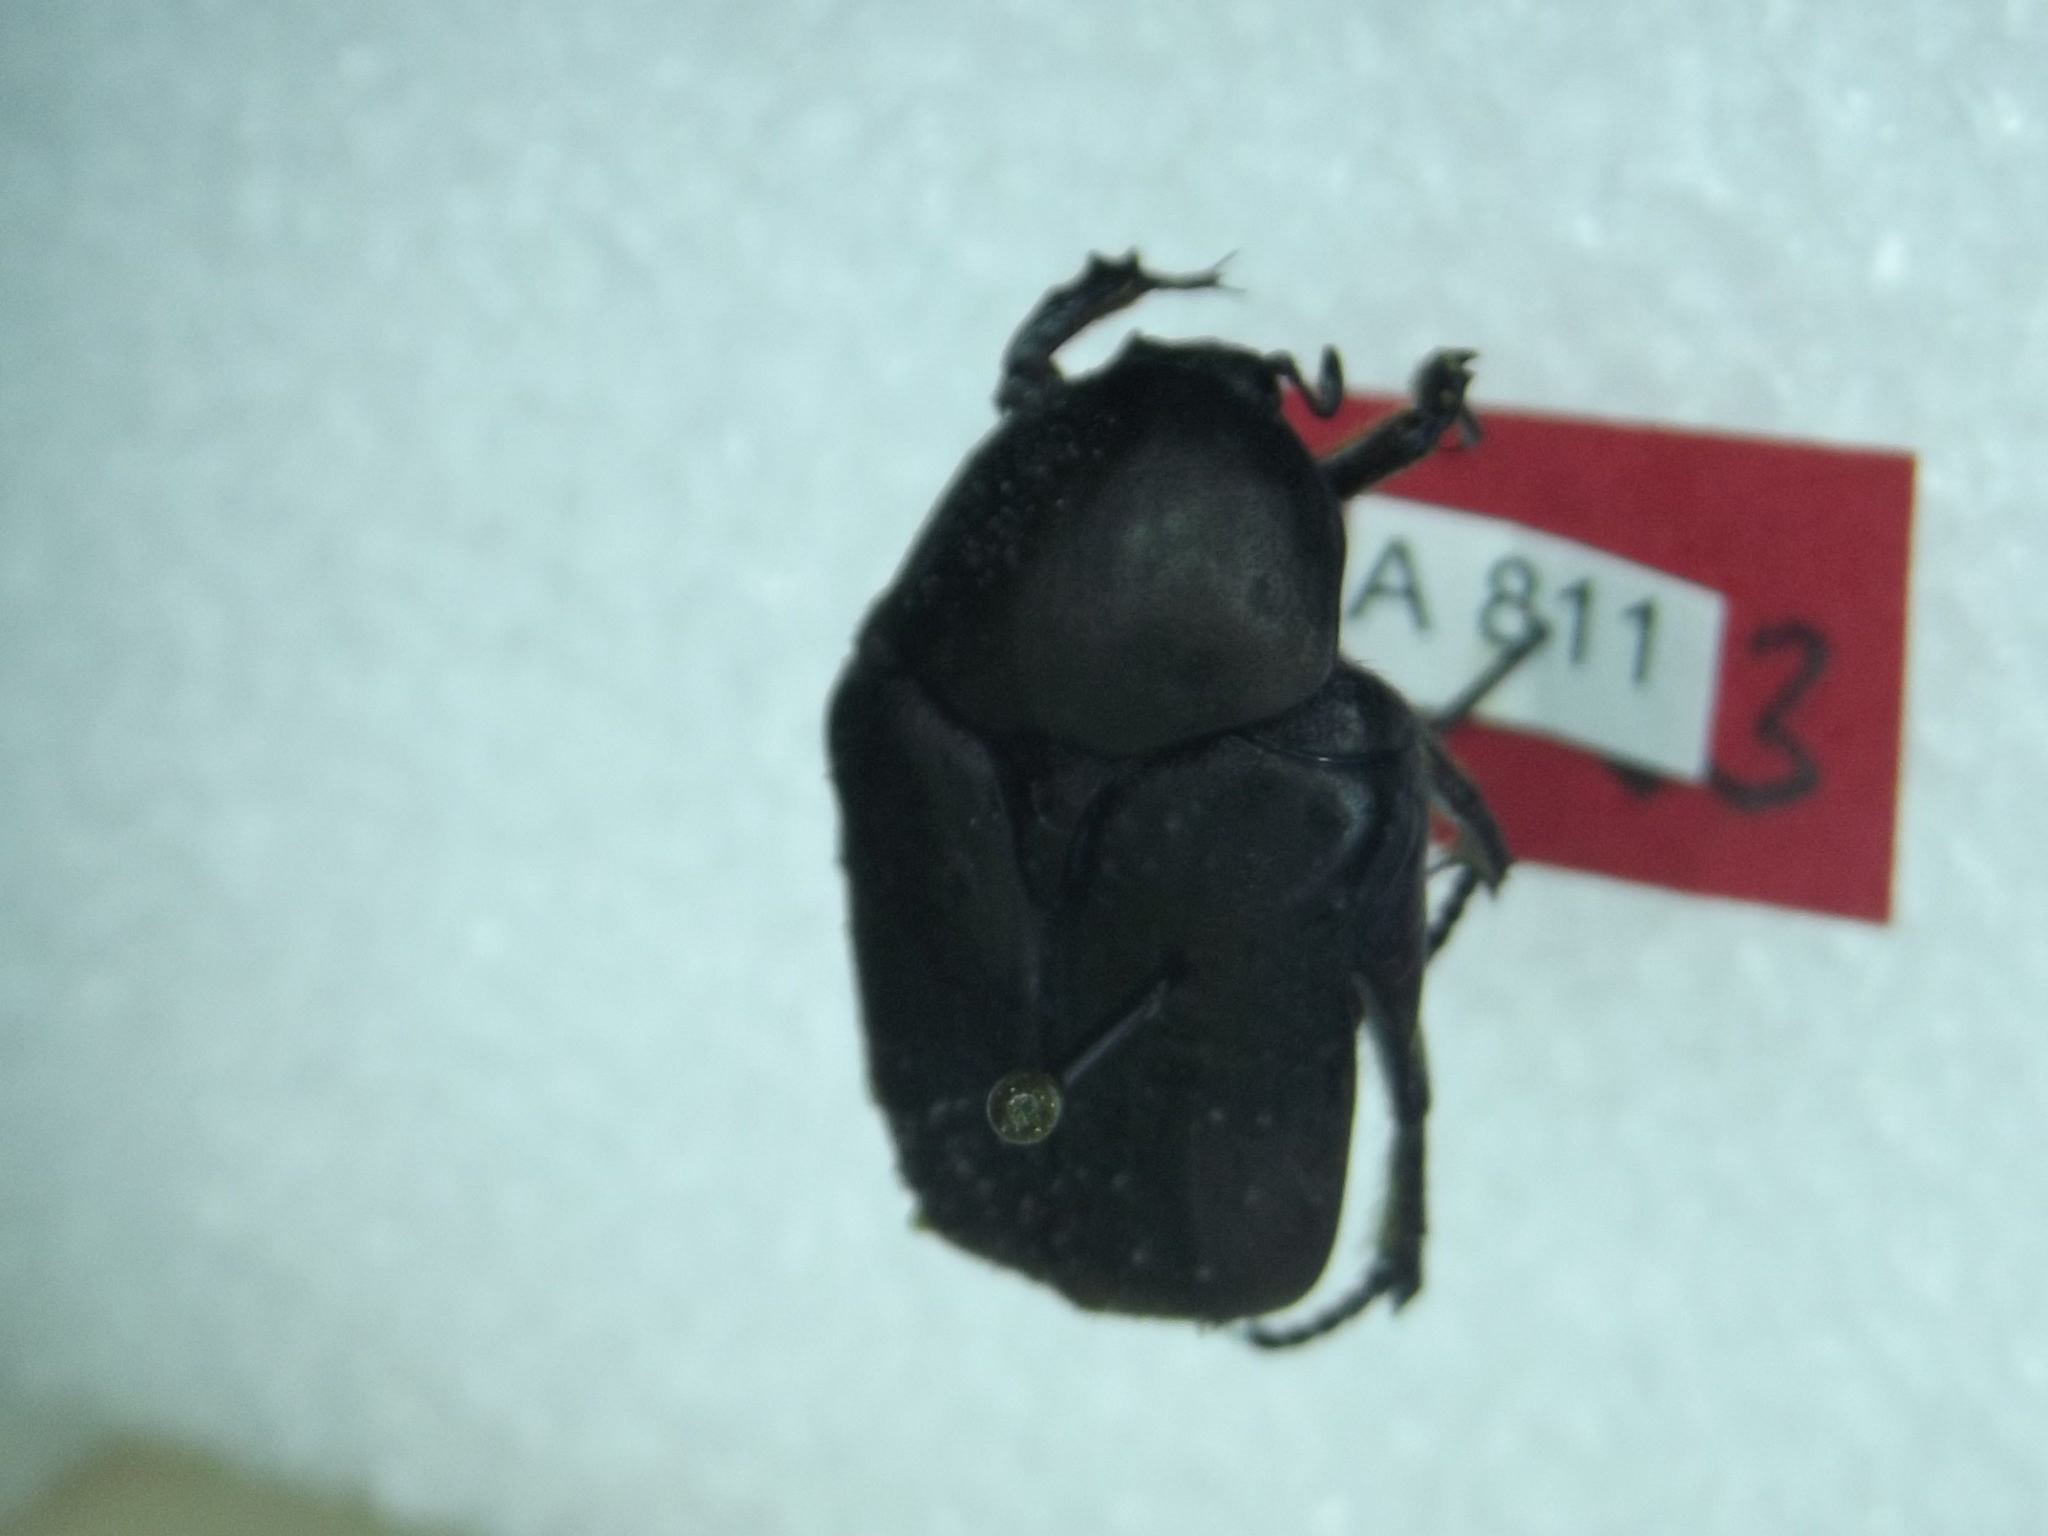Protaetia_oblonga: (748, 189, 1671, 1350)
